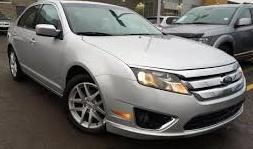Cars: (9, 3, 246, 140)
